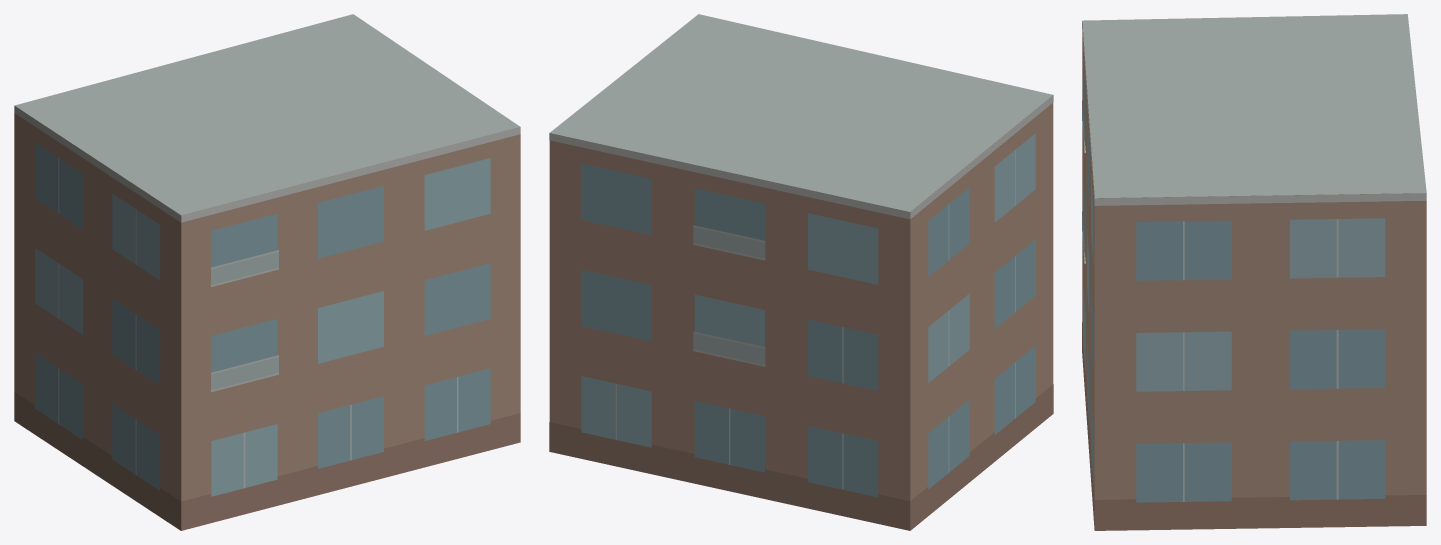
Rendered from survey-upis-32741465.glb.
3 renders of one model, left to right at view 1: azimuth 30°, elevation 25°; view 2: azimuth 150°, elevation 25°; view 3: azimuth 270°, elevation 25°, orthographic. The views are drawn at different scales.
Parts seen in each view (by area): view 1: survey-upis-32741465.tmp; view 2: survey-upis-32741465.tmp; view 3: survey-upis-32741465.tmp.
Boxes of the visible parts, bbox=[...] form: survey-upis-32741465.tmp: bbox=[14, 14, 520, 530]; survey-upis-32741465.tmp: bbox=[549, 14, 1053, 530]; survey-upis-32741465.tmp: bbox=[1082, 14, 1426, 530].
Bounding box in the file's own units: 12.53 × 10.55 × 9.91.
